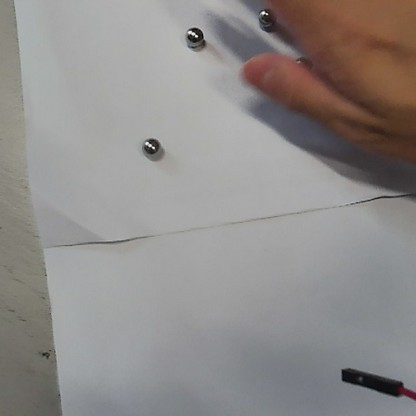ironball: (139, 135, 161, 159), (184, 23, 205, 48), (254, 6, 277, 27), (293, 53, 314, 70)
